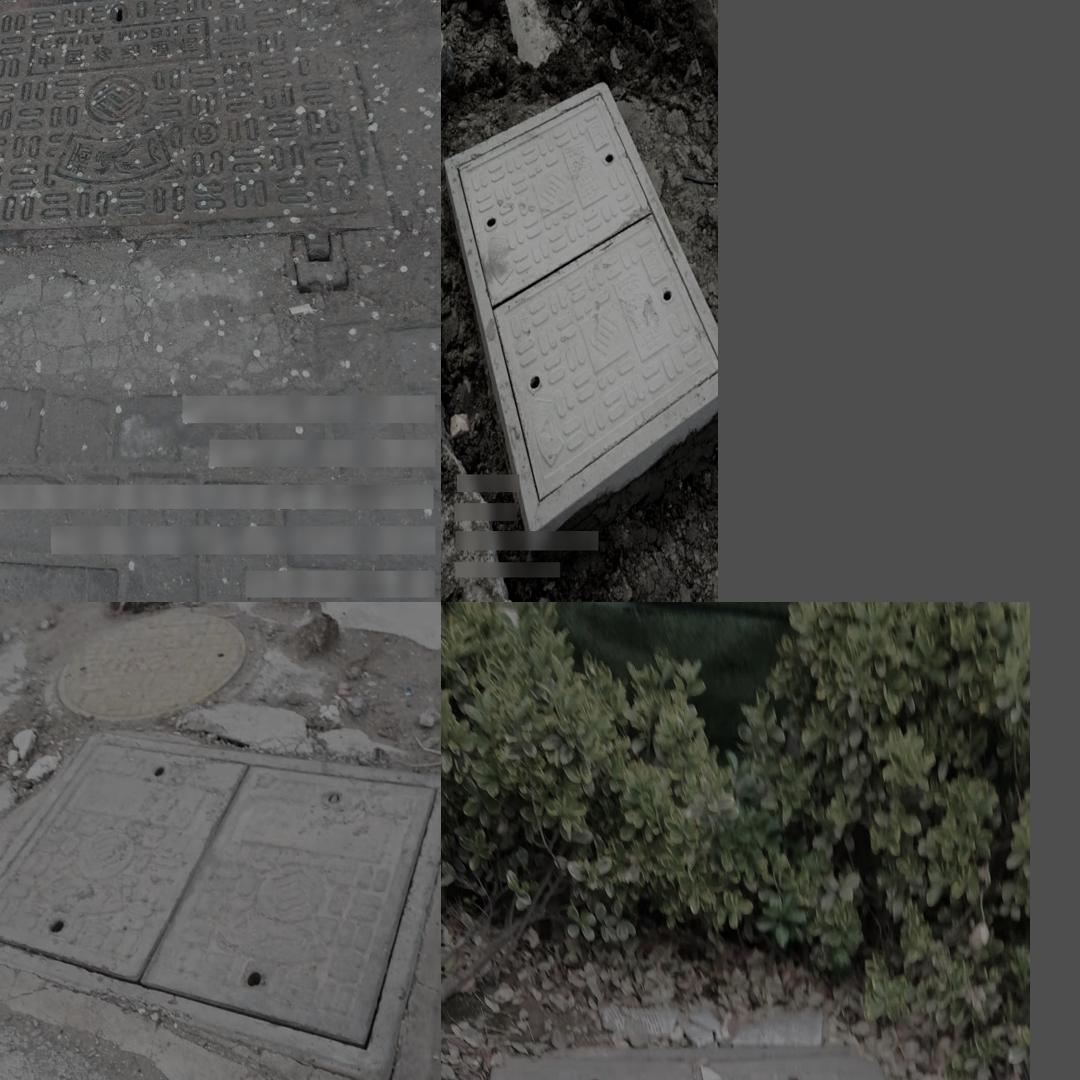good: (0, 730, 441, 1080), (449, 83, 716, 531), (0, 0, 396, 289), (56, 608, 247, 721), (452, 1046, 969, 1080)
